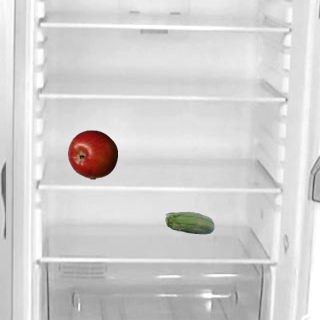Apple Braeburn: (67, 129, 117, 179)
Corn Husk: (164, 199, 214, 249)
